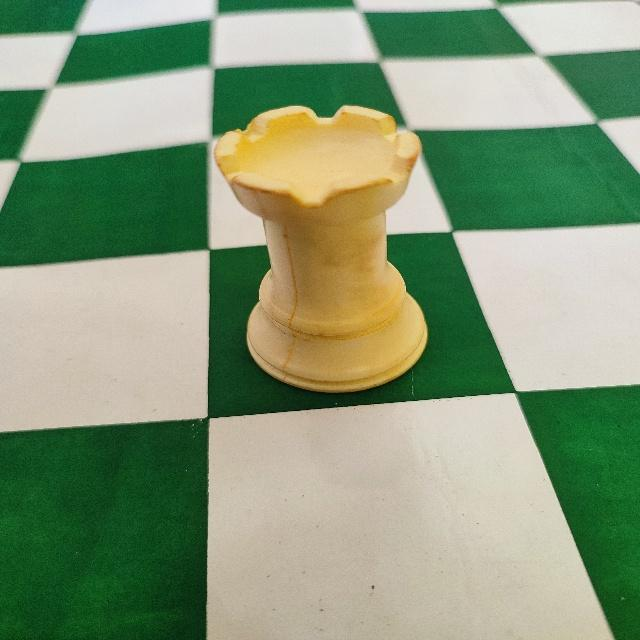Rook: (207, 100, 437, 396)
